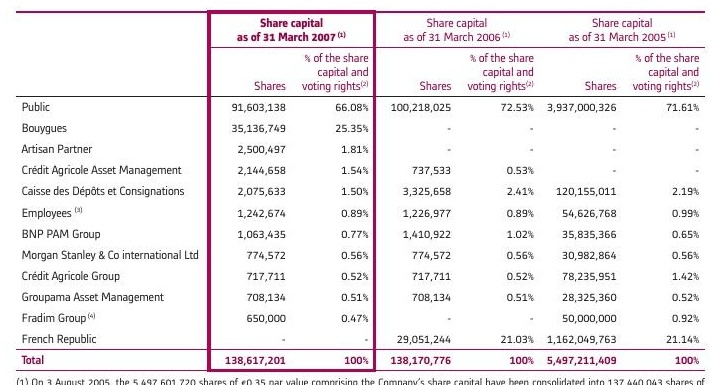table: (0, 0, 718, 385)
